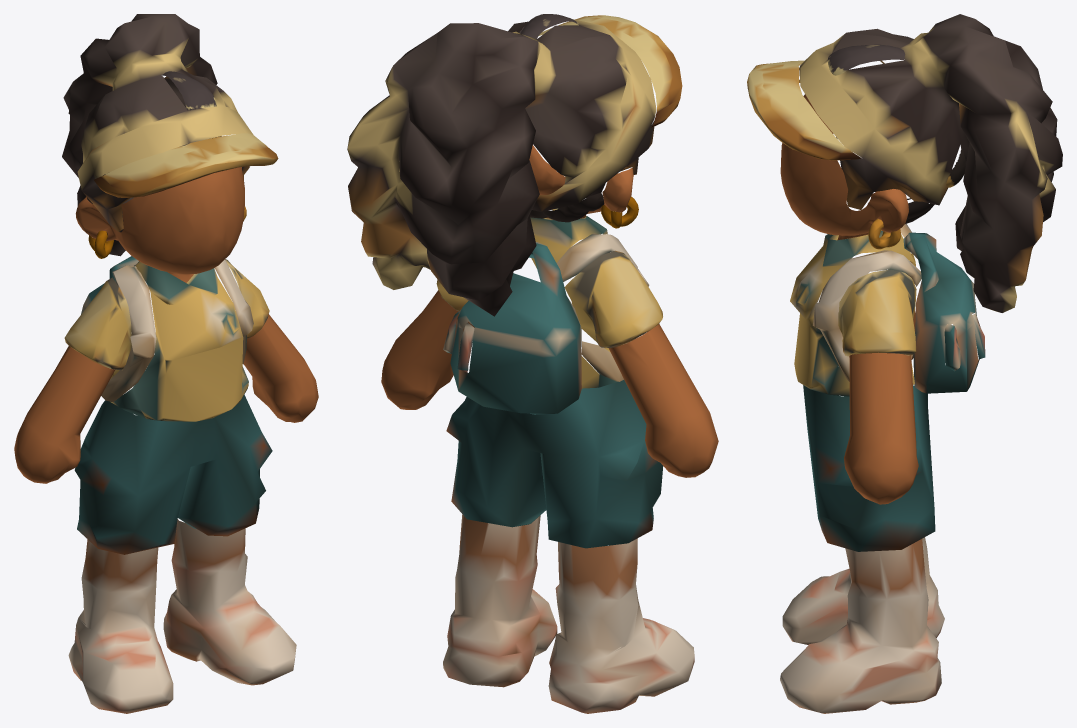
The picture shows the model from 3 angles, left to right: view 1: azimuth 30°, elevation 25°; view 2: azimuth 150°, elevation 25°; view 3: azimuth 270°, elevation 25°; orthographic projection. The views are drawn at different scales.
Visible parts, largest first — view 1: top, hair, bottom_l, bottom_r, head, hand_r, acc_head_0, hand_l, sleeve_r, sleeve_l, acc_head_3; view 2: hair, top, bottom_r, bottom_l, hand_r, sleeve_r, hand_l, acc_head_0, head, acc_head_1, acc_head_3, sleeve_l (+1 smaller); view 3: hair, top, bottom_l, hand_l, head, sleeve_l, acc_head_0, bottom_r, acc_head_3, acc_head_earl.
Boxes of the visible parts, left/top/right/bottom form: top: left=74, top=256, right=272, bottom=554; hair: left=62, top=14, right=253, bottom=256; bottom_l: left=163, top=519, right=296, bottom=685; bottom_r: left=68, top=539, right=173, bottom=713; head: left=75, top=167, right=244, bottom=282; hand_r: left=14, top=346, right=114, bottom=483; acc_head_0: left=94, top=133, right=278, bottom=197; hand_l: left=243, top=314, right=318, bottom=422; sleeve_r: left=64, top=277, right=131, bottom=379; sleeve_l: left=225, top=259, right=269, bottom=338; acc_head_3: left=162, top=71, right=216, bottom=110; hair: left=347, top=19, right=656, bottom=316; top: left=446, top=208, right=663, bottom=548; bottom_r: left=548, top=538, right=694, bottom=713; bottom_l: left=443, top=514, right=557, bottom=687; hand_r: left=608, top=324, right=718, bottom=477; sleeve_r: left=564, top=250, right=662, bottom=352; hand_l: left=381, top=290, right=474, bottom=409; acc_head_0: left=538, top=15, right=682, bottom=127; head: left=529, top=145, right=633, bottom=218; acc_head_1: left=529, top=193, right=604, bottom=222; acc_head_3: left=519, top=14, right=579, bottom=38; sleeve_l: left=436, top=279, right=468, bottom=353; hair: left=799, top=14, right=1062, bottom=312; top: left=790, top=224, right=985, bottom=551; bottom_l: left=780, top=539, right=941, bottom=713; hand_l: left=844, top=352, right=918, bottom=504; head: left=780, top=94, right=908, bottom=240; sleeve_l: left=838, top=269, right=960, bottom=371; acc_head_0: left=747, top=60, right=861, bottom=160; bottom_r: left=782, top=537, right=944, bottom=644; acc_head_3: left=828, top=44, right=904, bottom=75; acc_head_earl: left=868, top=218, right=901, bottom=249.
Size of the model in its own units: 0.5141 by 1.03 by 0.4498.
